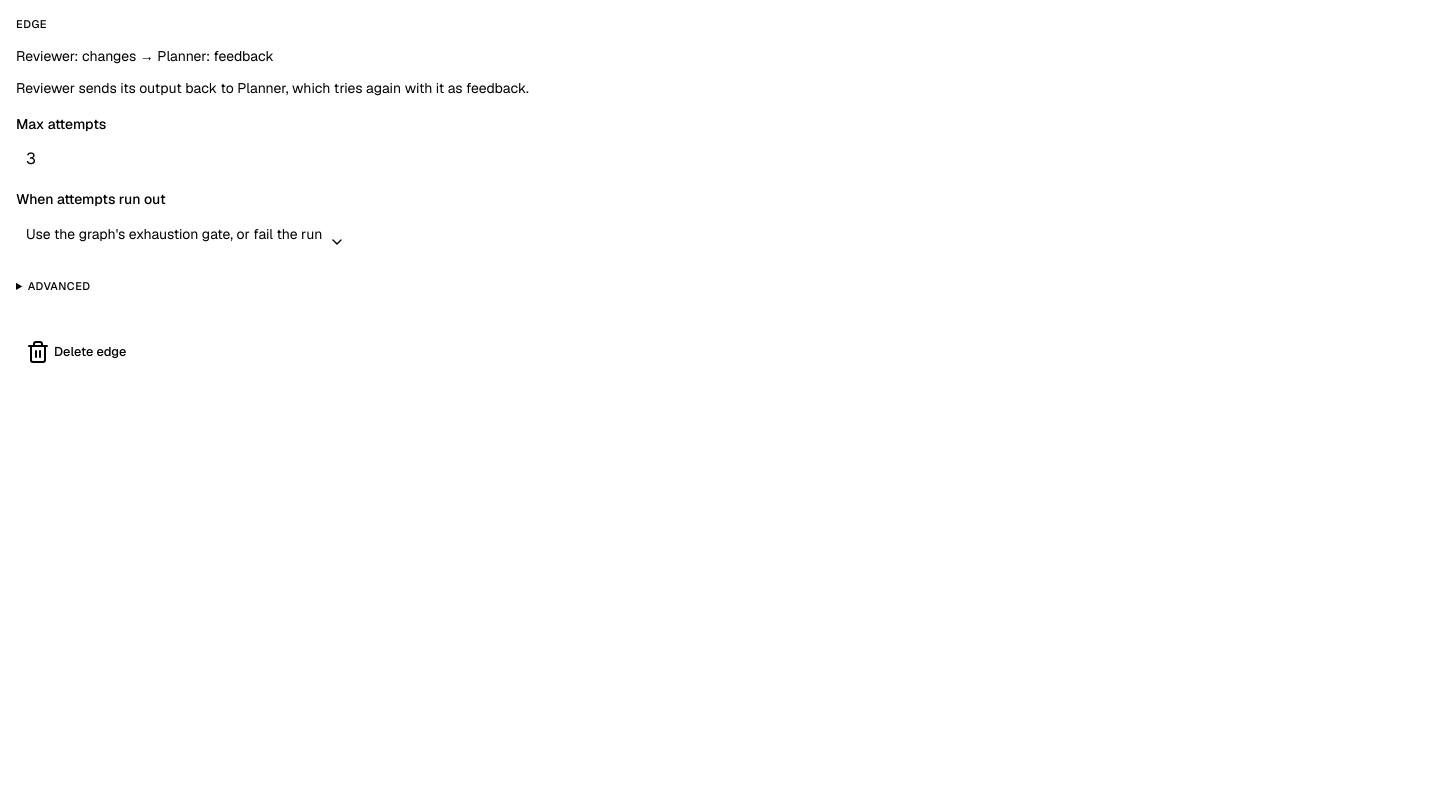
Test: an edge says which port it leaves from and where it arrives, with its condition under Advanced
Expected: the text "Reviewer: changes → Planner: feedback" is shown, left=16, top=47, right=274, bottom=65
Expected: the number field labelled "Max attempts" holds "3", left=16, top=142, right=1424, bottom=174
Click the heading "Advanced".
click(59, 286)  # box left=28, top=278, right=90, bottom=292
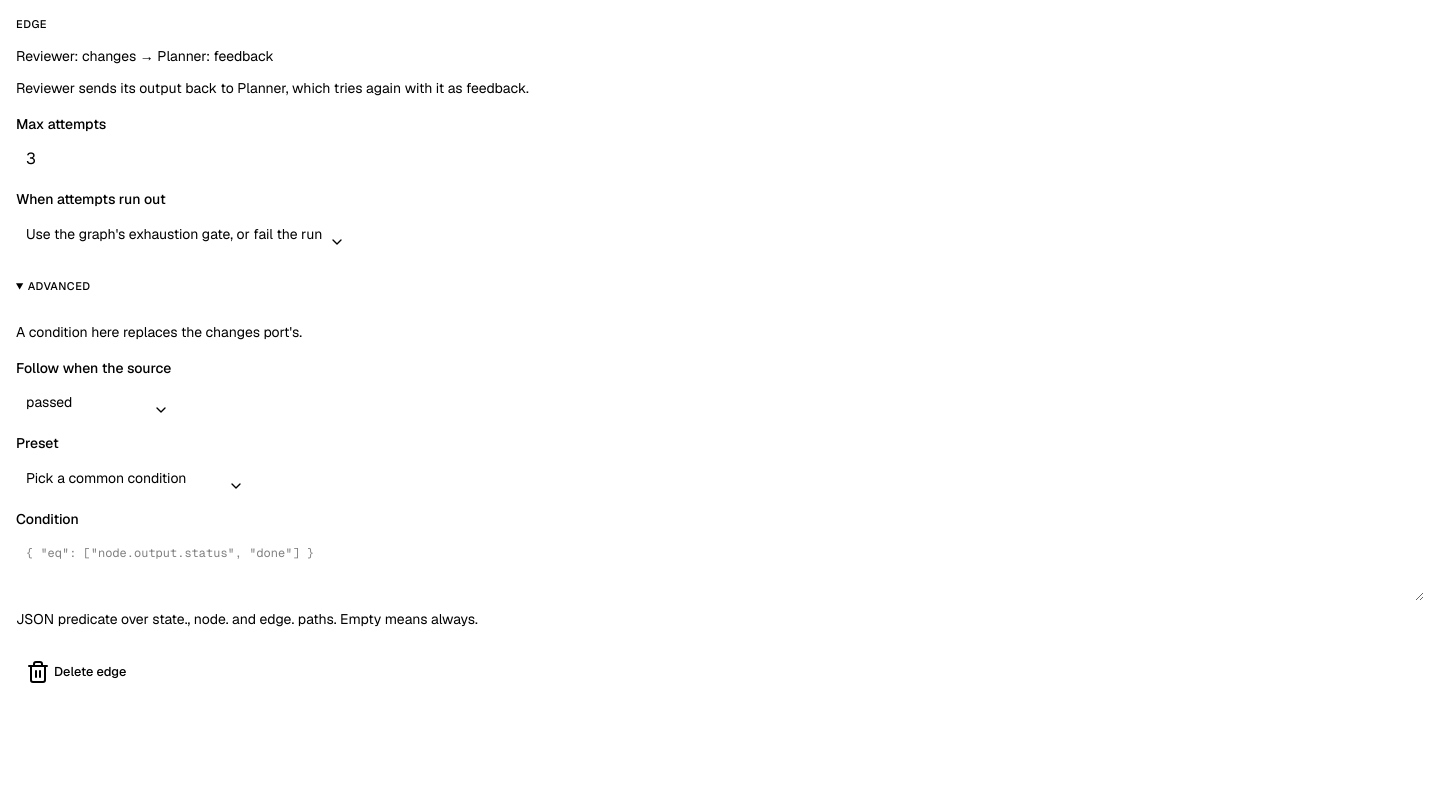
Now the text box labelled "Condition" is shown, box left=16, top=537, right=1424, bottom=601
